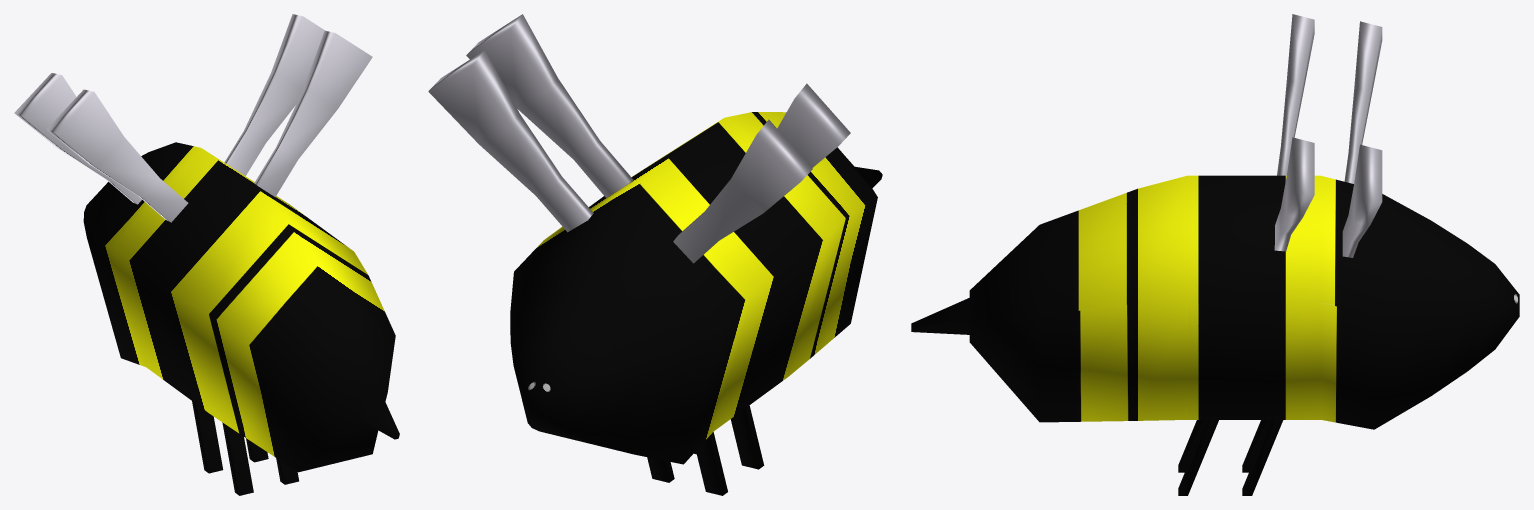
File: bee.fbx
3 renders of one model, left to right at view 1: azimuth 30°, elevation 25°; view 2: azimuth 150°, elevation 25°; view 3: azimuth 270°, elevation 25°, orthographic. The views are drawn at different scales.
Parts seen in each view (by area): view 1: Cylinder; view 2: Cylinder; view 3: Cylinder.
Boxes of the visible parts, left/top/right/bottom form: Cylinder: left=14, top=14, right=399, bottom=495; Cylinder: left=428, top=14, right=882, bottom=495; Cylinder: left=911, top=14, right=1519, bottom=495.
Bounding box in the file's own units: 0.4067 × 0.4753 × 0.6472.
